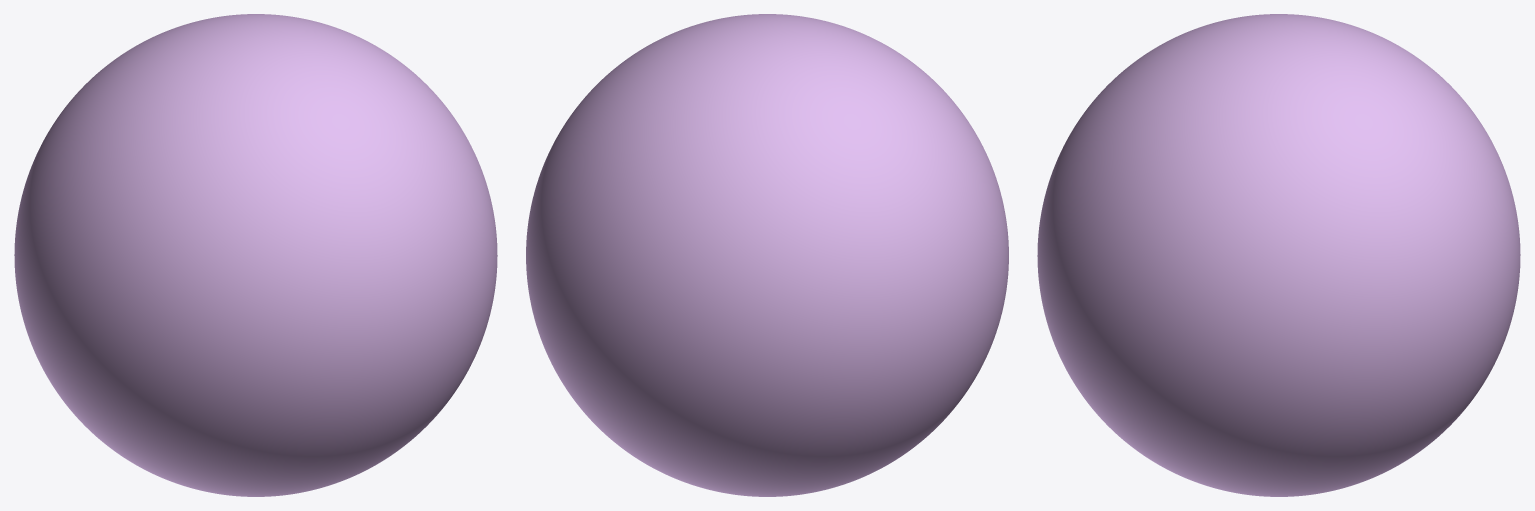
Rendered from 23_REO.glb.
3 views of the same model, side by side, from view 1: azimuth 30°, elevation 25°; view 2: azimuth 150°, elevation 25°; view 3: azimuth 270°, elevation 25° (orthographic).
Visible parts, largest first — view 1: 23_RE:O; view 2: 23_RE:O; view 3: 23_RE:O.
Part boxes in pixels (x1=…): 23_RE:O: x1=14, y1=14, x2=497, y2=496; 23_RE:O: x1=526, y1=14, x2=1008, y2=496; 23_RE:O: x1=1037, y1=14, x2=1520, y2=496.
Bounding box in the file's own units: 2.73 × 2.73 × 2.73.
